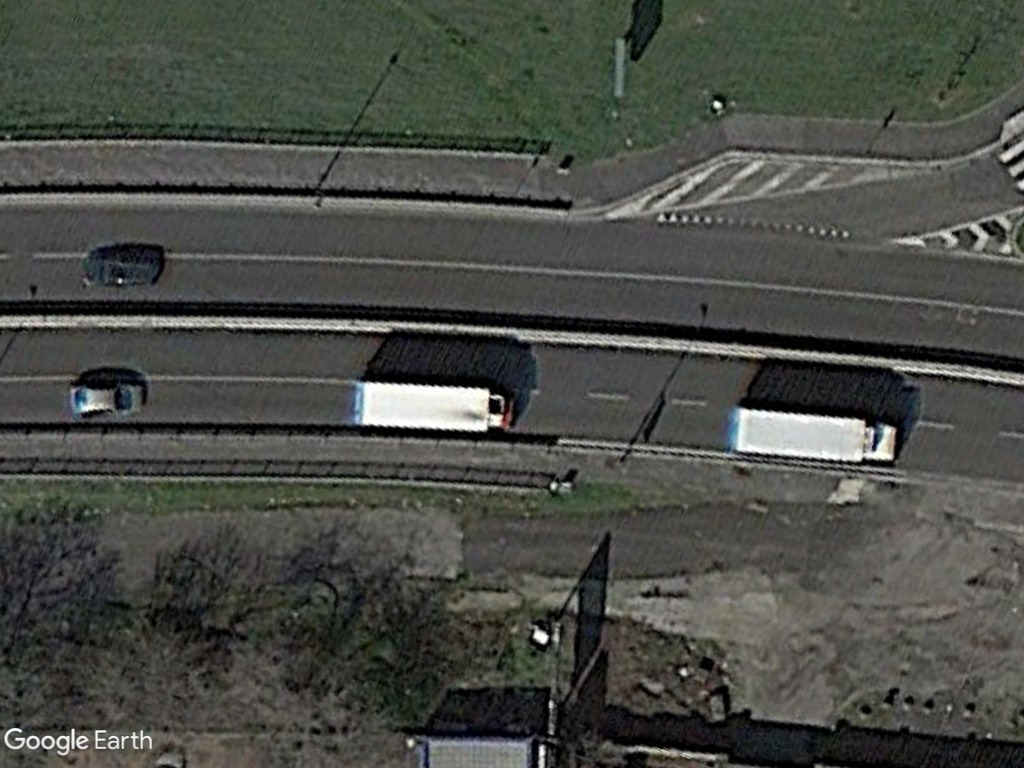truck: (725, 402, 904, 471), (347, 378, 521, 440)
